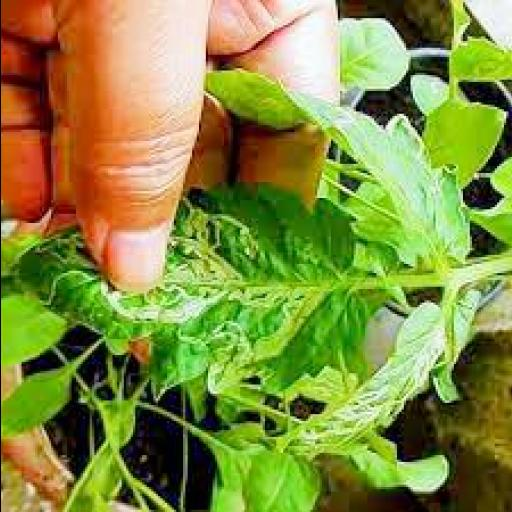disease_tomato: (13, 182, 377, 395)
